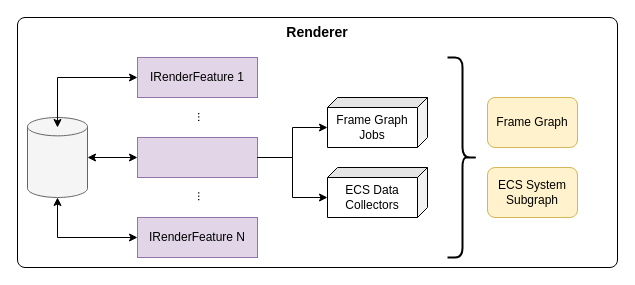
Image size: 635x285. Some labels were removed from this diagram. The shapes that lost their labels are listed below. From the top down, each one's centre as x and y in pixels, then its label:
At point (57, 157): "Context".
At point (197, 157): "IRenderFeature i".
